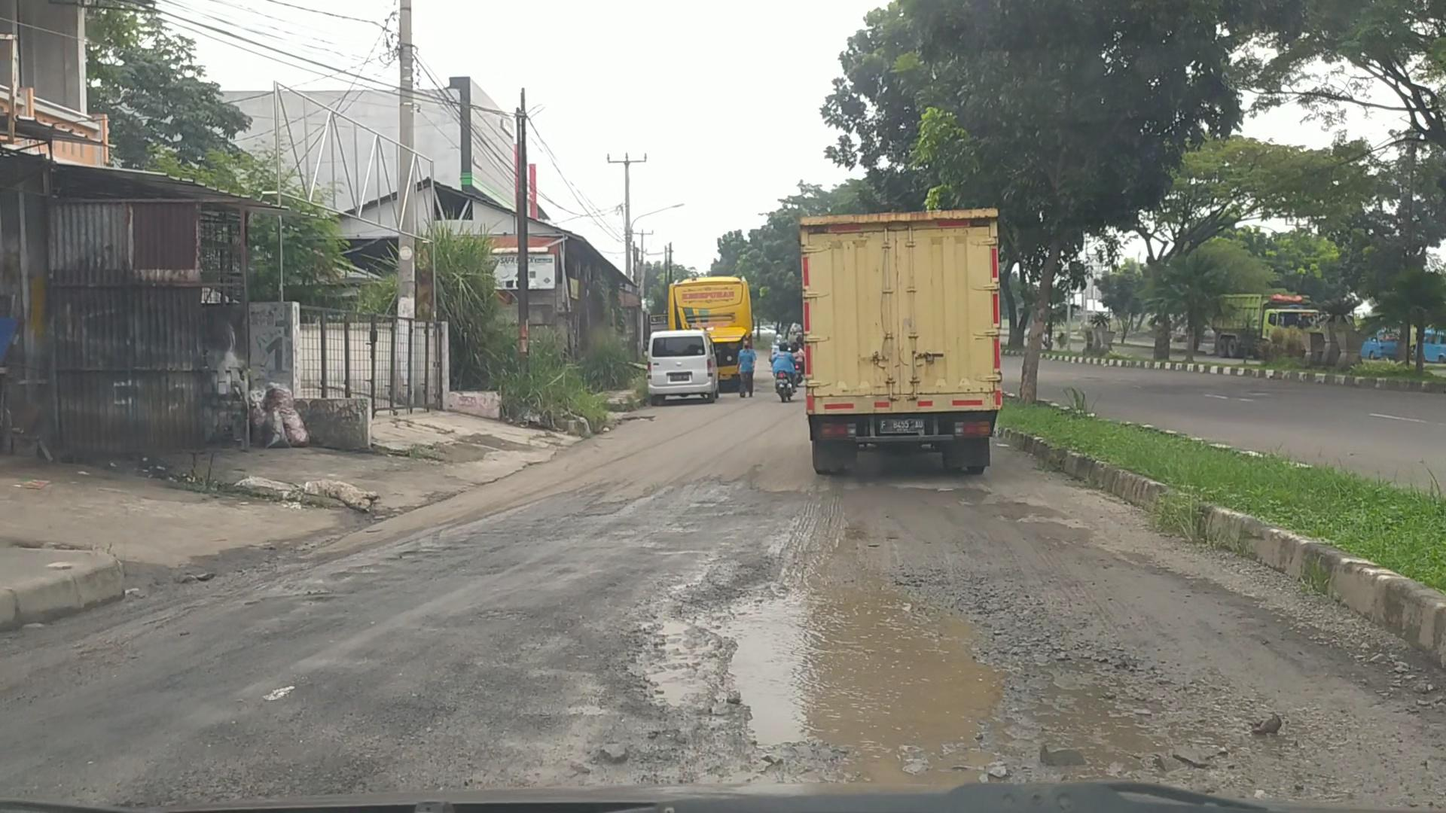pothole: (673, 572, 1243, 788)
